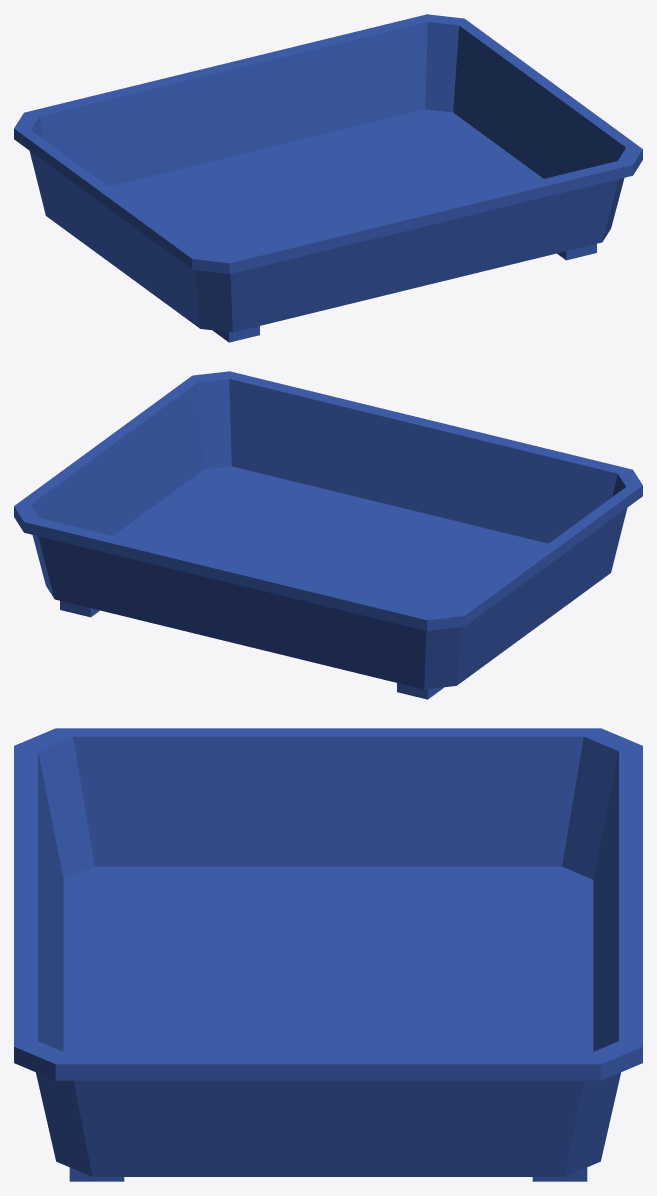
Rendered from SM_Cook_HerbTray_Blue_01.glb.
The picture shows the model from 3 angles, top to bottom: view 1: azimuth 30°, elevation 25°; view 2: azimuth 150°, elevation 25°; view 3: azimuth 270°, elevation 25°; orthographic projection. The views are drawn at different scales.
Visible parts, largest first — view 1: SM_Cook_HerbTray_Blue_01; view 2: SM_Cook_HerbTray_Blue_01; view 3: SM_Cook_HerbTray_Blue_01.
Boxes of the visible parts, <box> form: SM_Cook_HerbTray_Blue_01: <box>14,14,642,342</box>; SM_Cook_HerbTray_Blue_01: <box>14,371,642,699</box>; SM_Cook_HerbTray_Blue_01: <box>14,728,642,1181</box>.
Bounding box in the file's own units: 0.4374 × 0.09 × 0.346.
1 material, 1 textured.
